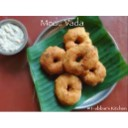vada: (63, 45, 97, 72), (37, 45, 66, 72), (56, 73, 81, 104), (82, 60, 109, 85), (65, 28, 90, 49)
